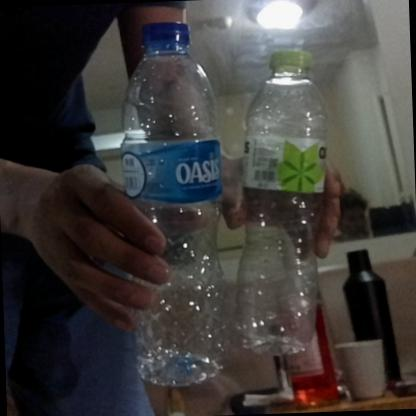plastic_bottles: (118, 18, 235, 390), (222, 49, 336, 356)
